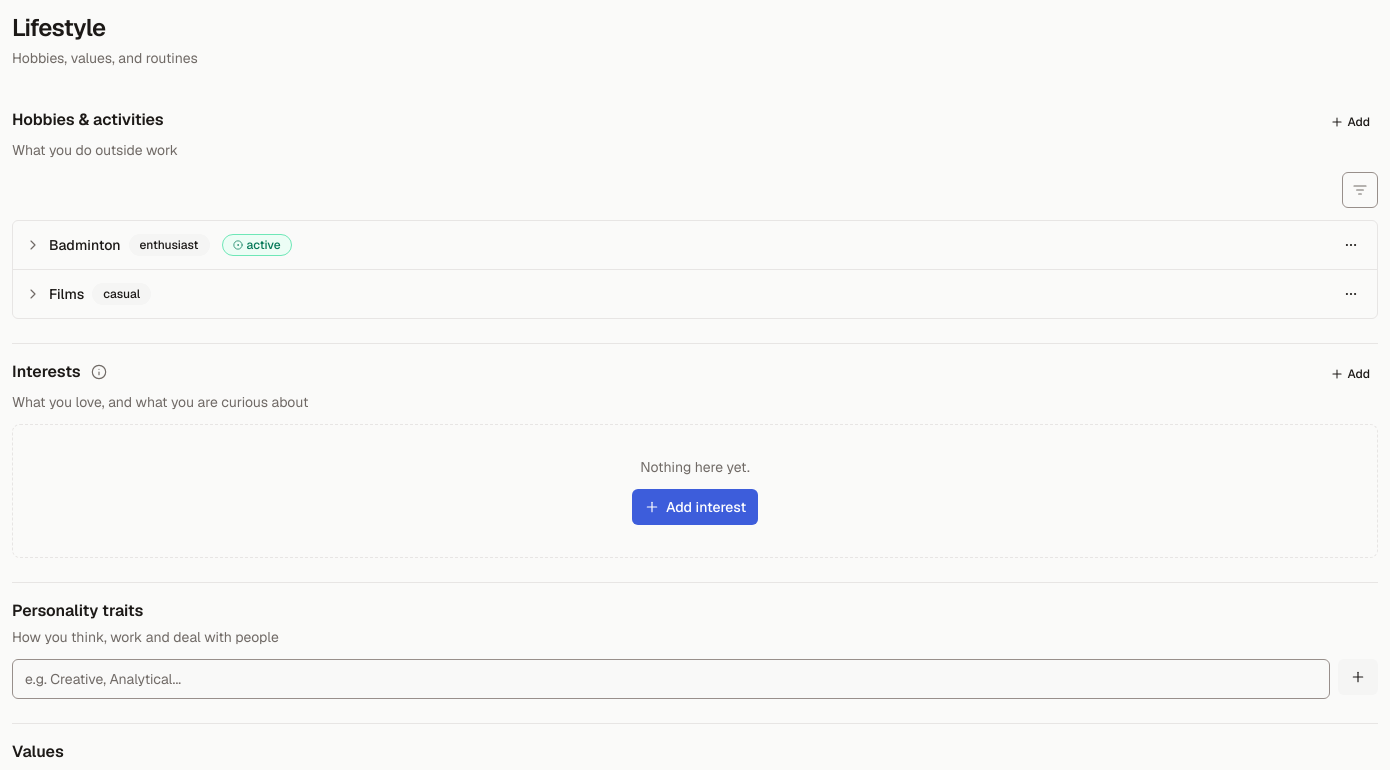
Scenario: a record shaped like production › enum values older than the current option set › shows the stored value rather than dropping it, and marks it legacy
Click the text "Badminton".
click(85, 245)  # box [49,235,120,255]
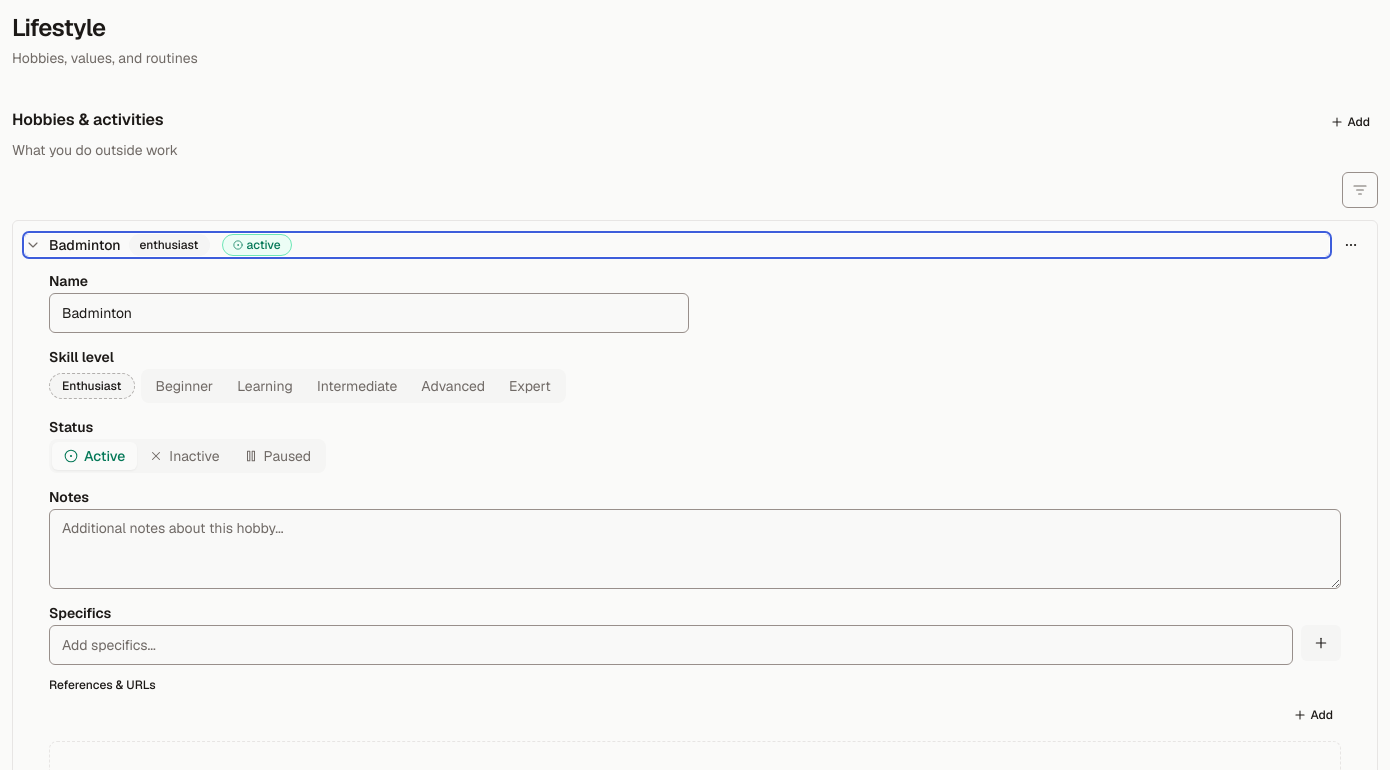
Result: the button "enthusiast" is shown at [49,373,134,399]
